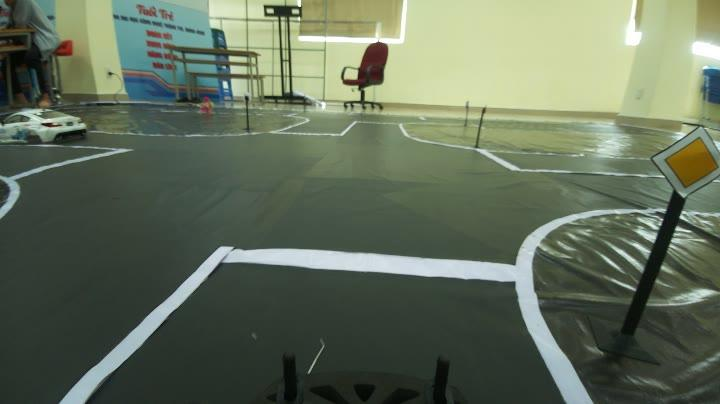priority: (650, 122, 720, 194)
